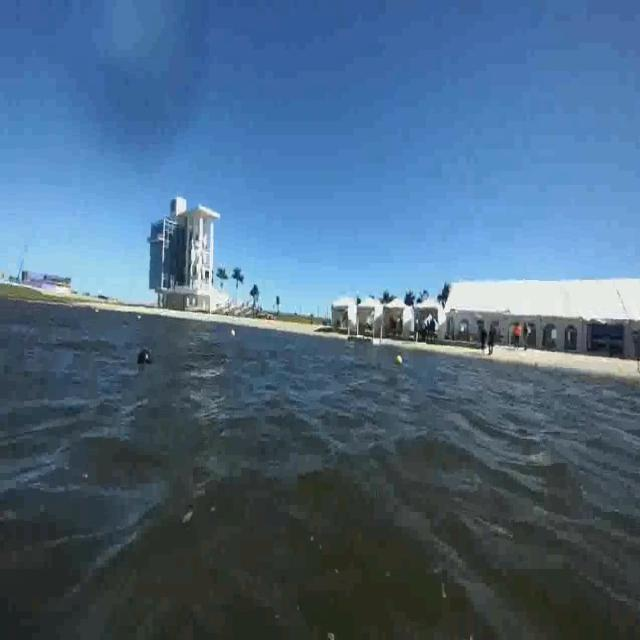black-buoy: (137, 347, 152, 366)
yellow-buoy: (32, 596, 42, 612), (395, 352, 403, 367)
